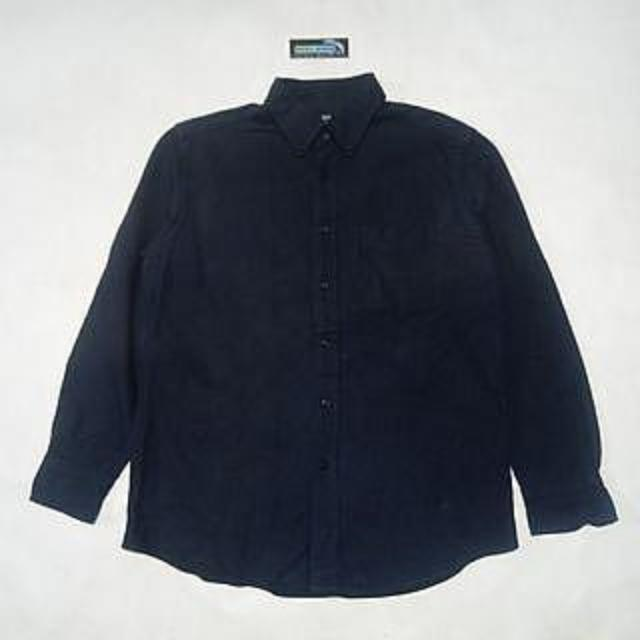SHIRT: (14, 65, 633, 608)
